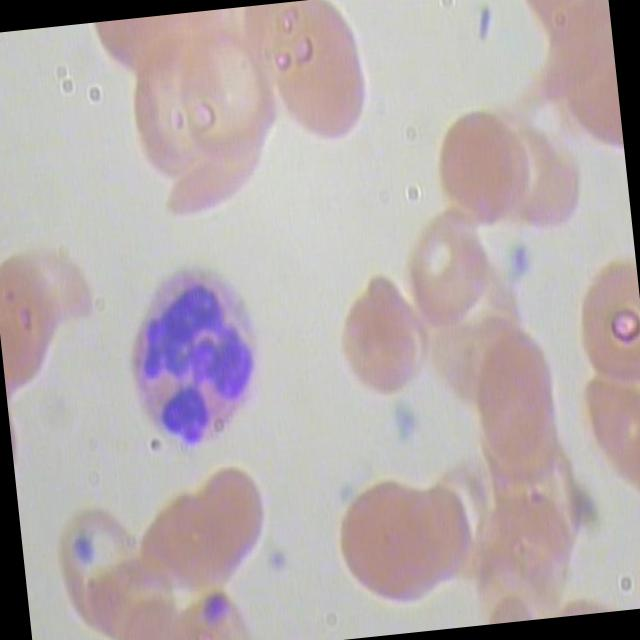Platelets: (196, 578, 233, 636), (384, 400, 423, 446), (503, 238, 540, 284), (70, 534, 92, 566)
RBC: (169, 20, 286, 182), (253, 0, 375, 154), (328, 472, 446, 620), (45, 501, 151, 640), (396, 203, 502, 340), (462, 330, 568, 467), (328, 266, 428, 408), (432, 109, 528, 240), (187, 462, 278, 588), (0, 254, 73, 402)
WBC: (96, 243, 287, 464)
